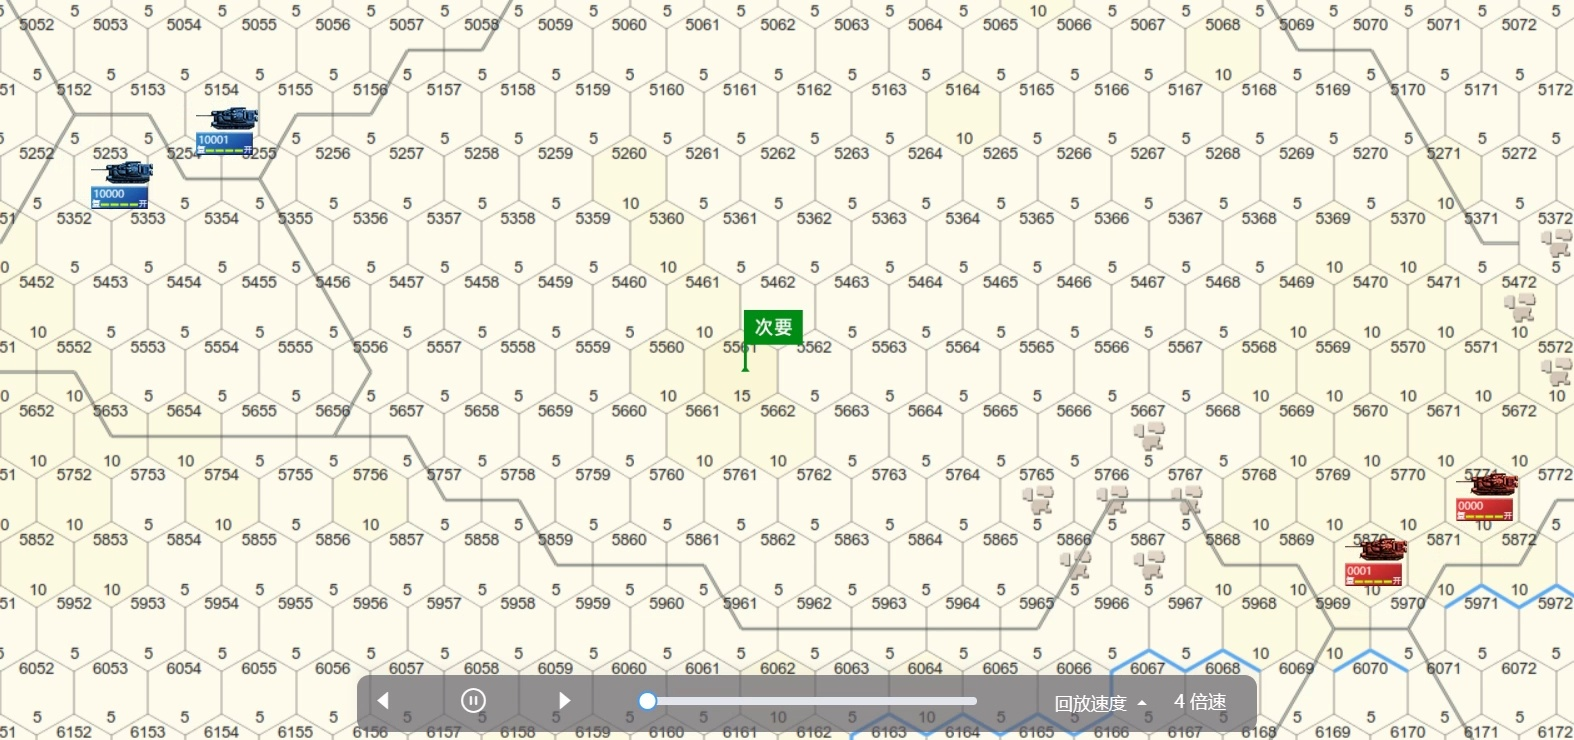blue_tank: (199, 99, 263, 163), (97, 153, 159, 215)
red_tank: (1448, 469, 1514, 535), (1343, 534, 1404, 595)
